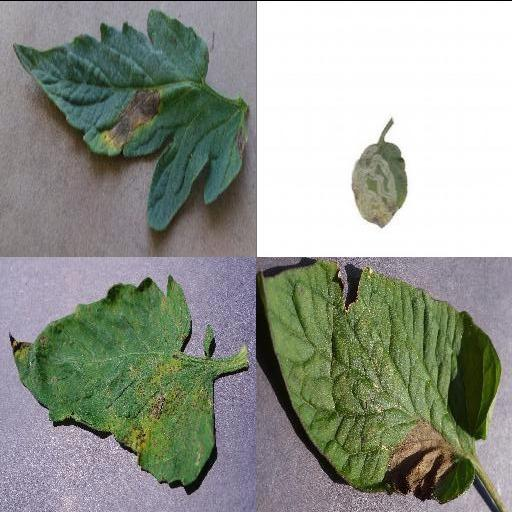Early Blight: (8, 5, 252, 229)
Late Blight: (256, 260, 500, 504)
Leaf Miner: (349, 140, 406, 228)
Septoria: (8, 274, 216, 487)
